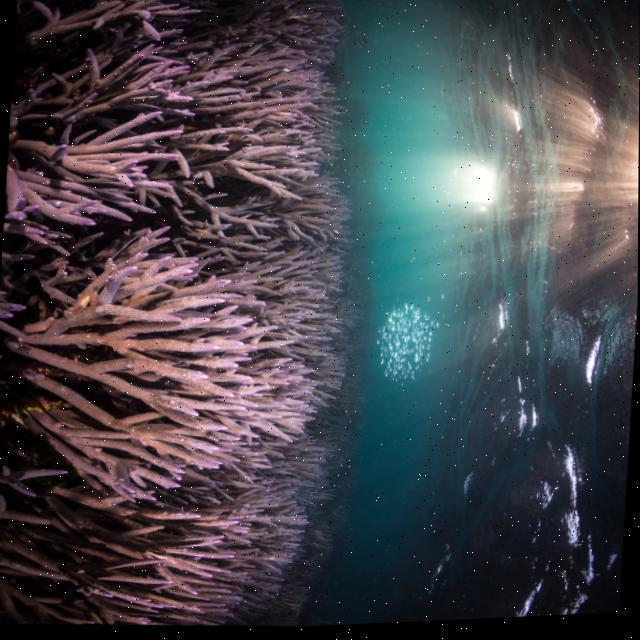Healthy Coral: (0, 0, 332, 630)
